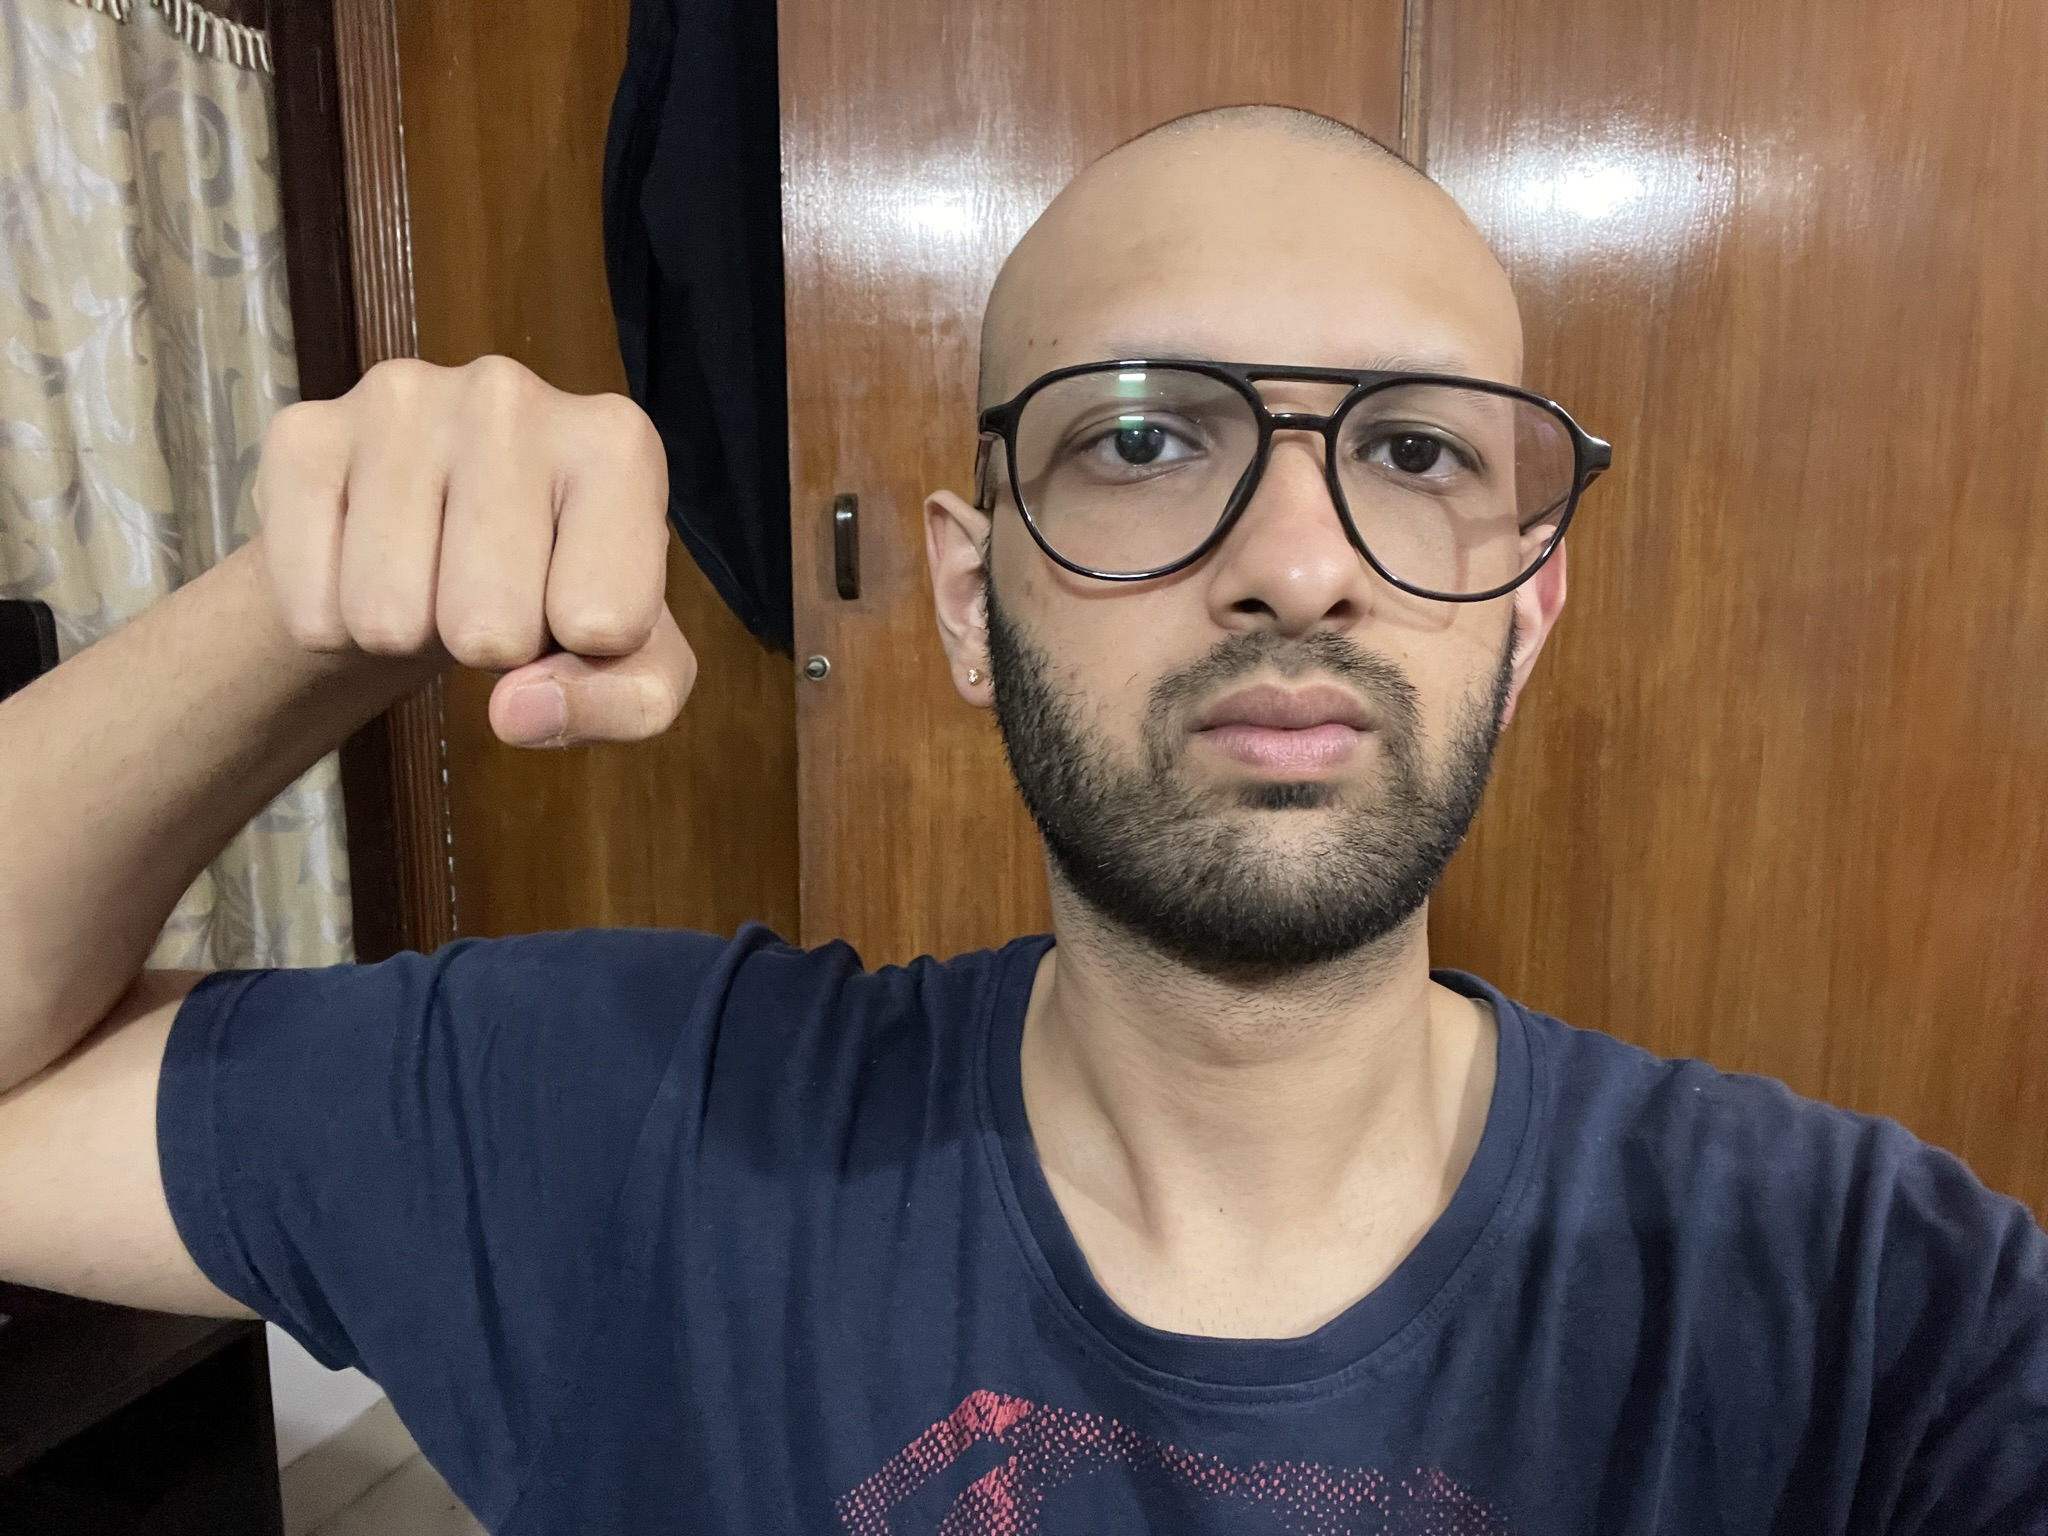Yes: (250, 349, 706, 778)
